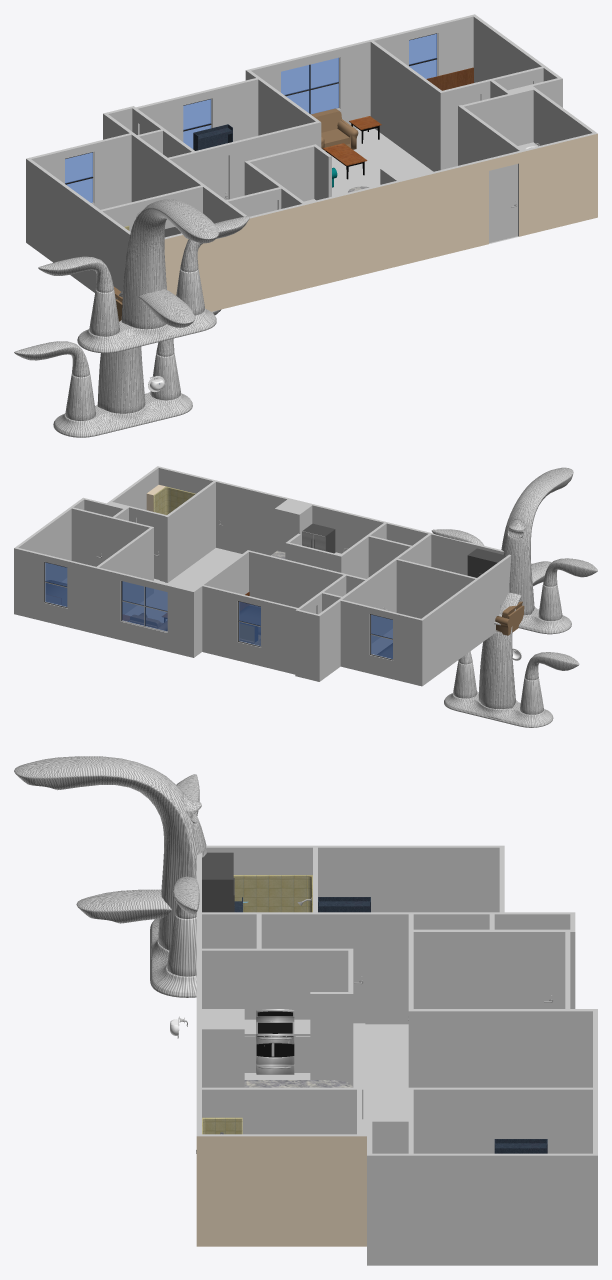
The model's file is 3+bedroom+Furniture.glb.
3 views of the same model, one above another, from view 1: azimuth 30°, elevation 25°; view 2: azimuth 150°, elevation 25°; view 3: azimuth 270°, elevation 25° (orthographic). The views are drawn at different scales.
Visible parts, largest first — view 1: _(Loose Entity), skp9E55, 5316-4, C-Component#10, C-small window.001, C-small window, C-small window.002, C-HRL desk shelf.001, _C-Group#110 (Loose Mesh), C-bed; view 2: _(Loose Entity), 5316-4, skp9E55, C-Component#10, C-small window.001, C-small window.002, C-small window, C-Shower, G-.013, Group#110, G-Object.024, C-bed (+1 smaller); view 3: _(Loose Entity), skp9E55, C-Shower.001, 5316-4, G-.013, G-Object.020, C-HRL desk shelf.002, C-HRL desk shelf, G-Object.017, C-Shower.
Boxes of the visible parts, x1,y1,x2,y2 form: _(Loose Entity): [26, 14, 597, 311]; skp9E55: [38, 199, 249, 353]; 5316-4: [14, 289, 221, 437]; C-Component#10: [280, 57, 340, 114]; C-small window.001: [64, 151, 94, 204]; C-small window: [408, 33, 438, 78]; C-small window.002: [183, 98, 212, 148]; C-HRL desk shelf.001: [193, 124, 232, 150]; _C-Group#110 (Loose Mesh): [321, 119, 358, 150]; C-bed: [426, 67, 473, 90]; _(Loose Entity): [14, 466, 511, 686]; 5316-4: [444, 561, 579, 727]; skp9E55: [431, 467, 597, 634]; C-Component#10: [120, 580, 167, 632]; C-small window.001: [369, 614, 393, 660]; C-small window.002: [237, 601, 261, 647]; C-small window: [44, 562, 67, 608]; C-Shower: [153, 486, 195, 514]; G-.013: [467, 548, 499, 577]; Group#110: [495, 605, 524, 635]; G-Object.024: [303, 523, 335, 553]; C-bed: [46, 580, 66, 605]; _(Loose Entity): [196, 845, 597, 1265]; skp9E55: [14, 756, 206, 997]; C-Shower.001: [233, 875, 312, 912]; 5316-4: [76, 889, 171, 923]; G-.013: [202, 861, 233, 912]; G-Object.020: [256, 1035, 294, 1064]; C-HRL desk shelf.002: [318, 897, 370, 912]; C-HRL desk shelf: [494, 1139, 547, 1153]; G-Object.017: [256, 1017, 294, 1035]; C-Shower: [202, 1117, 242, 1134].
Size of the model in its own units: 17.99 by 7.31 by 11.76.
Materials: 39 (18 with a texture image).
